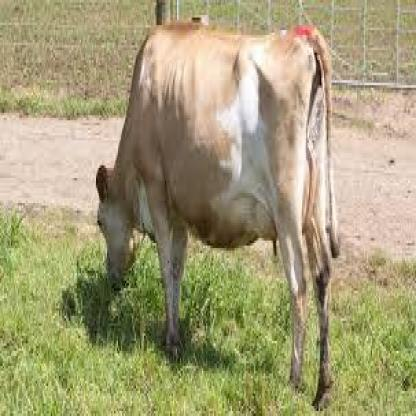cow: (97, 25, 331, 414)
